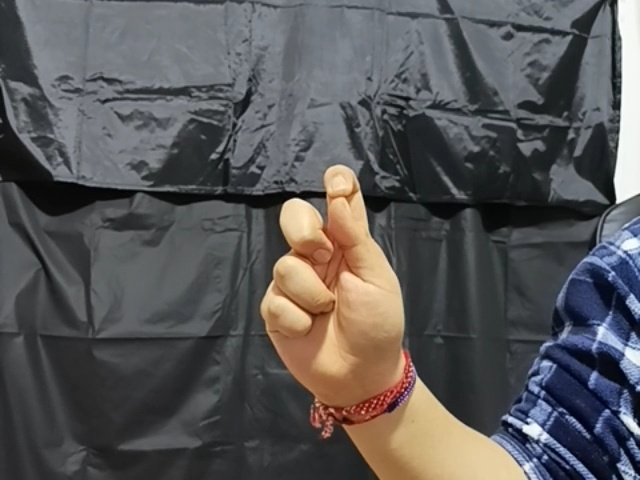T: (256, 157, 409, 386)
